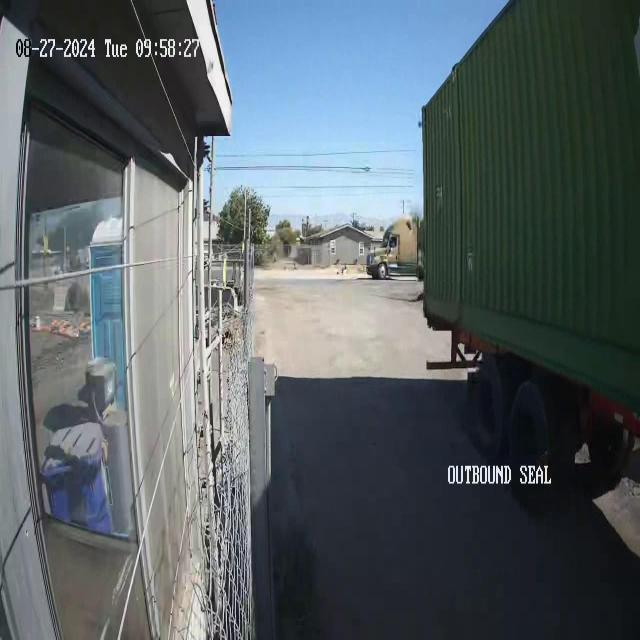TRUCK_IN: (416, 0, 640, 508)
